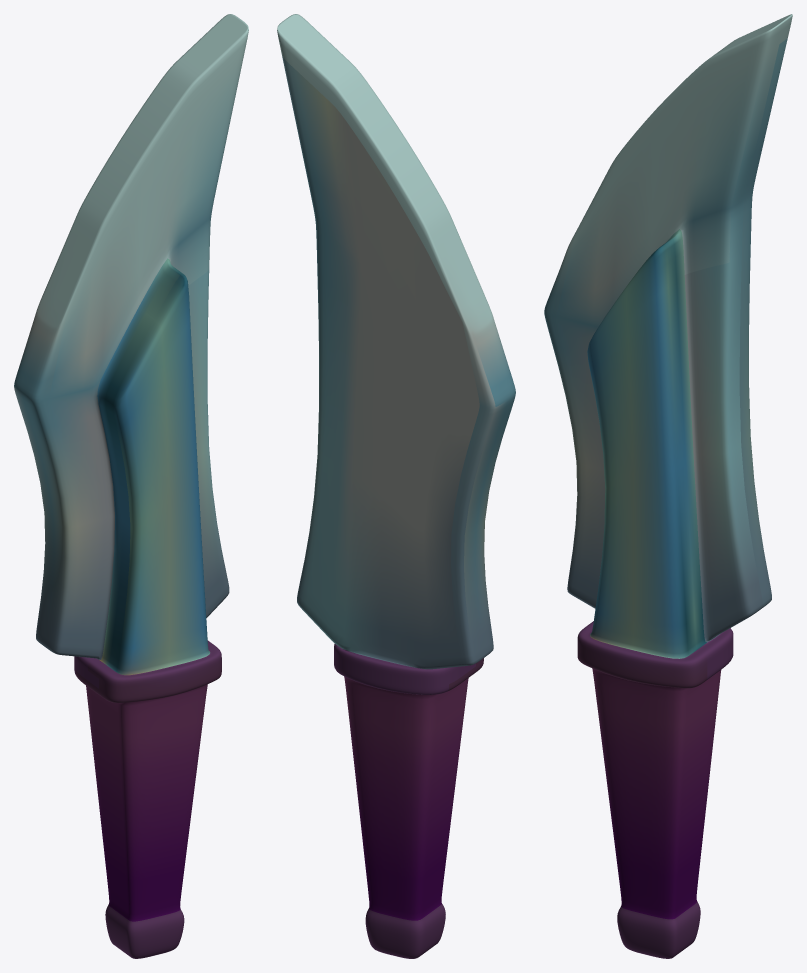
The model's file is dagger_01.fbx.
The picture shows the model from 3 angles, left to right: view 1: azimuth 30°, elevation 25°; view 2: azimuth 150°, elevation 25°; view 3: azimuth 330°, elevation 25°; orthographic projection. The views are drawn at different scales.
Parts seen in each view (by area): view 1: Cube; view 2: Cube; view 3: Cube.
Part boxes in pixels (box(x1,y1,x2,y2)): Cube: box(14, 14, 248, 958); Cube: box(277, 14, 515, 958); Cube: box(544, 14, 792, 958).
Bounding box in the file's own units: 161 × 632 × 74.5.
